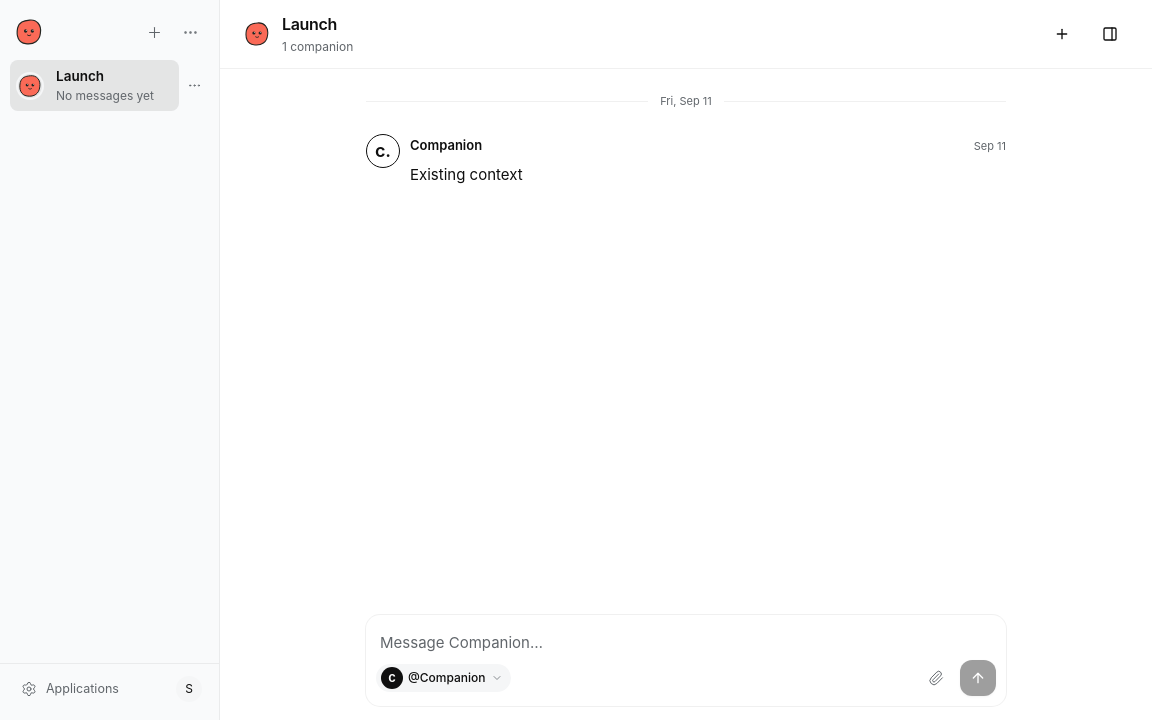
it: discussions workspace › selects an @ recipient by keyboard without sending and keeps the thread beside the workbench
The width and height of the screenshot is (1152, 720).
Type "Ask @Ad" into the text box labelled "Message Companion" at (686, 642), box x1=376 y1=625 x2=996 y2=660
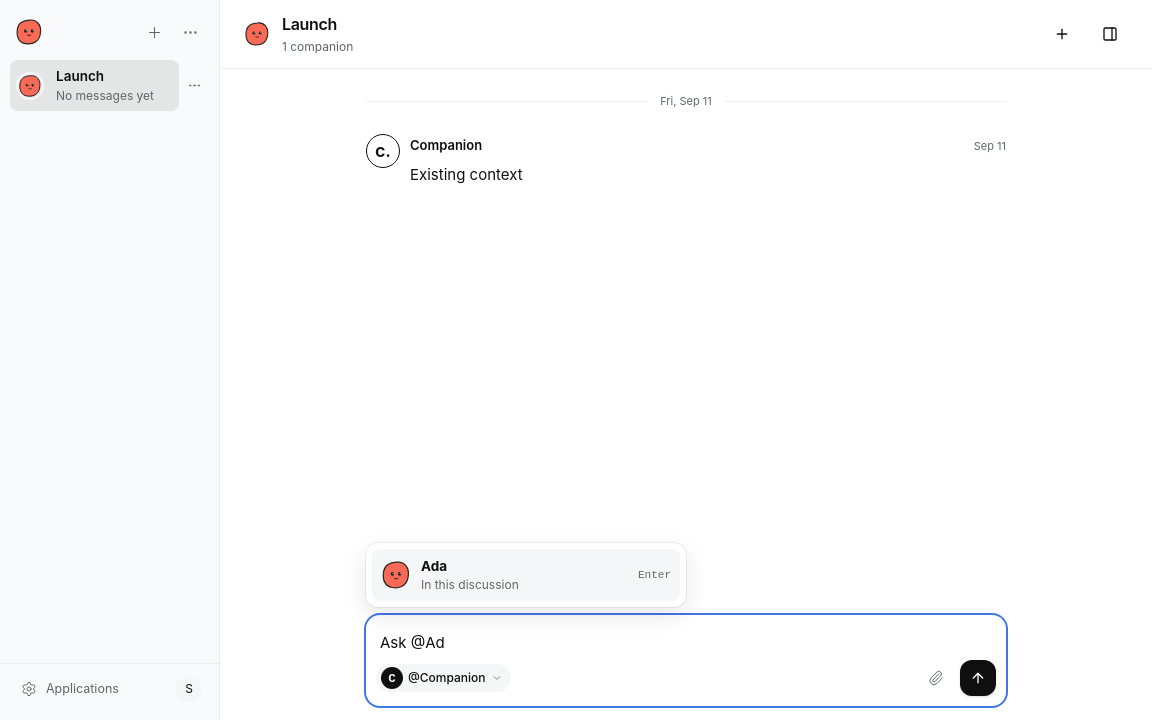
Press Enter
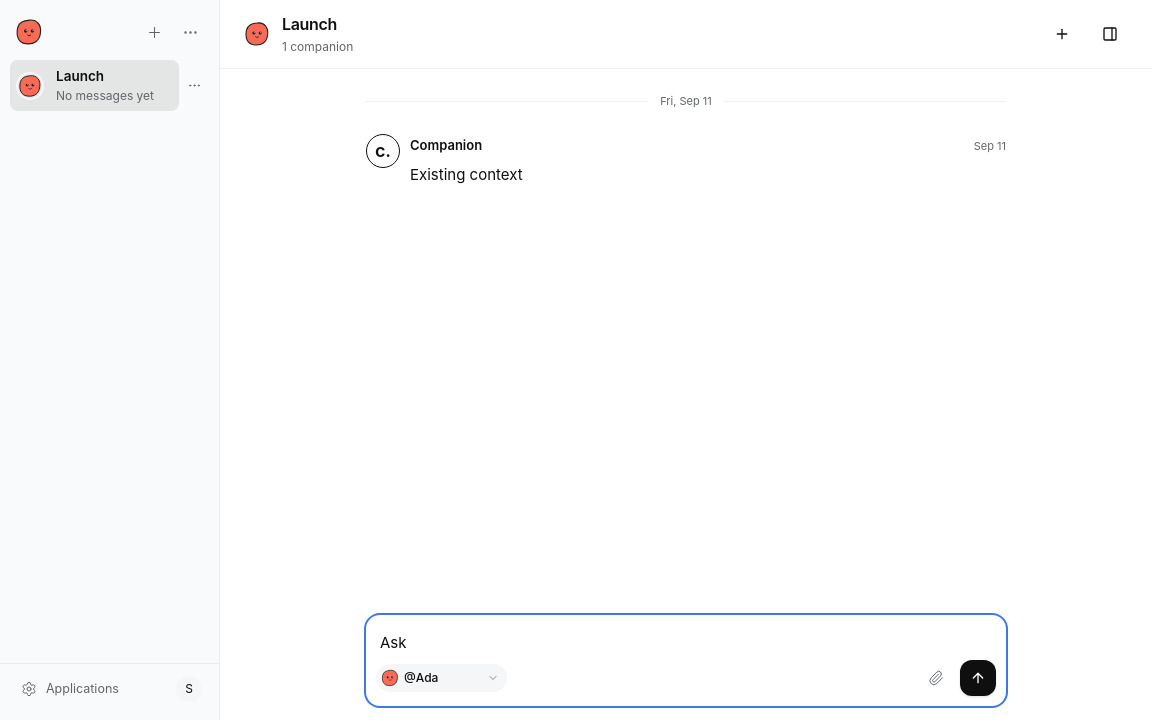
Expected: the text box named "Message Companion" holds "Ask ", x1=376 y1=625 x2=996 y2=660
Click the button named "Workspace" at (1110, 34), box x1=1092 y1=16 x2=1128 y2=52
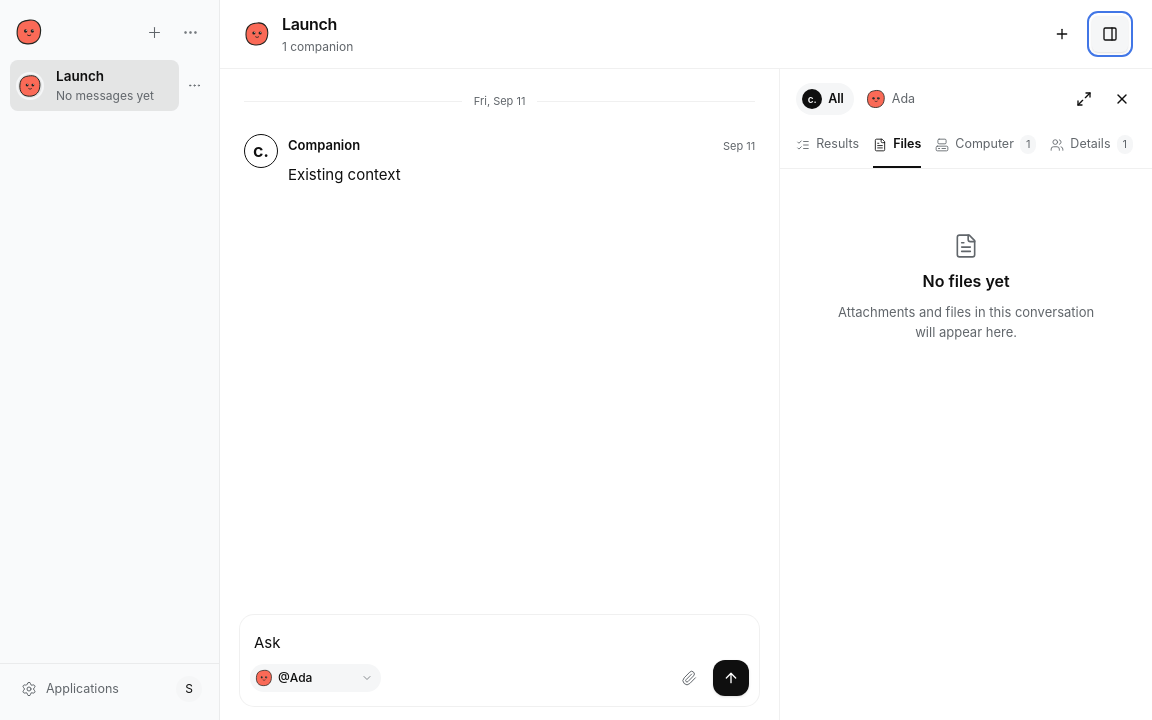
Click the tab "Ada" at (892, 99), box x1=860 y1=83 x2=925 y2=115
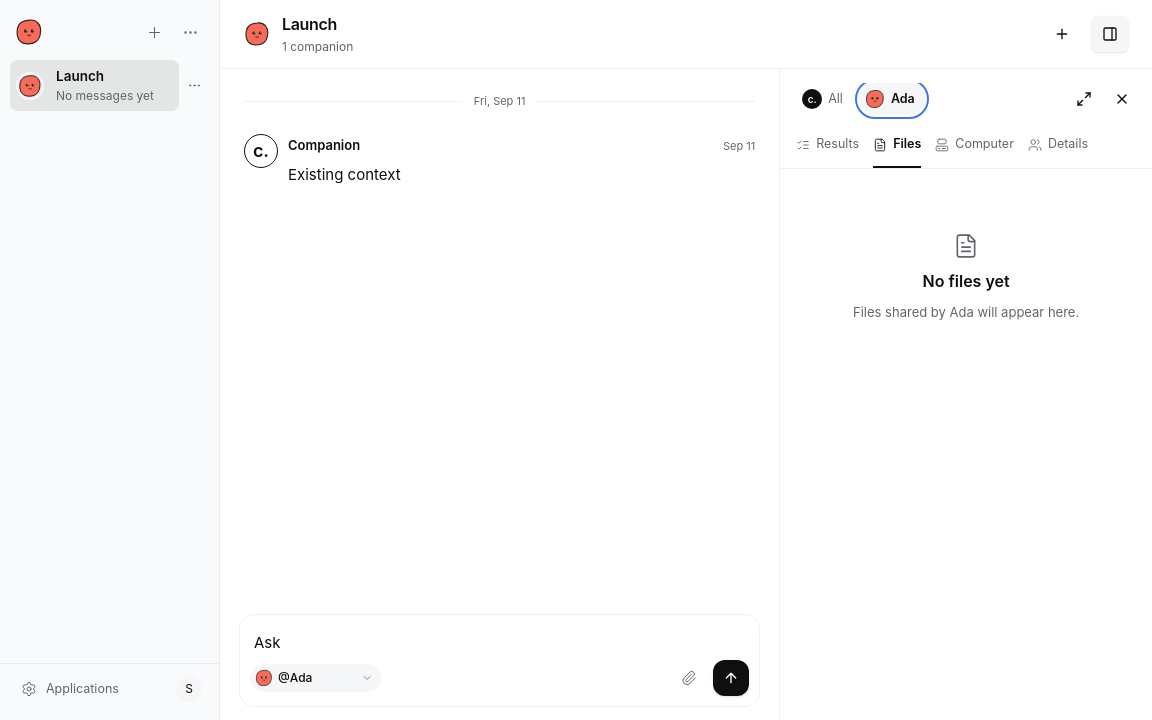
Expected: the text "Existing context" is shown, x1=288 y1=164 x2=401 y2=184
Expected: the text box named "Message Ada" is shown, x1=250 y1=625 x2=749 y2=660
Expected: the element named "Ada workspace" is shown, x1=779 y1=69 x2=1151 y2=719
